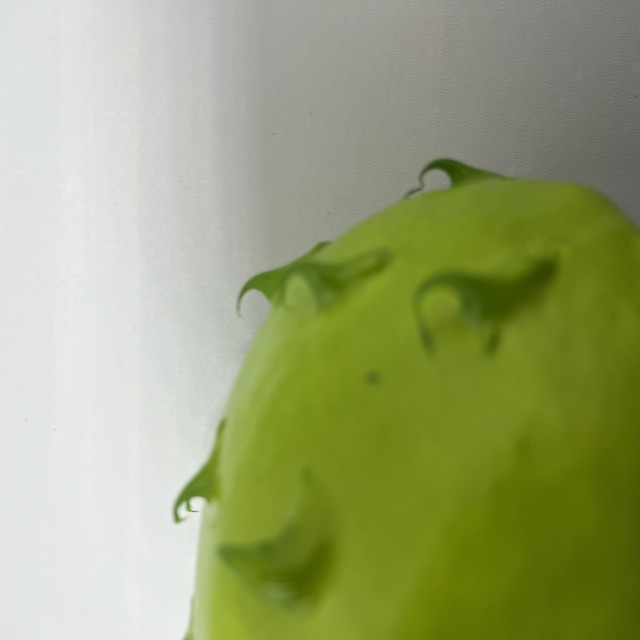Man cau: (164, 151, 640, 640)
